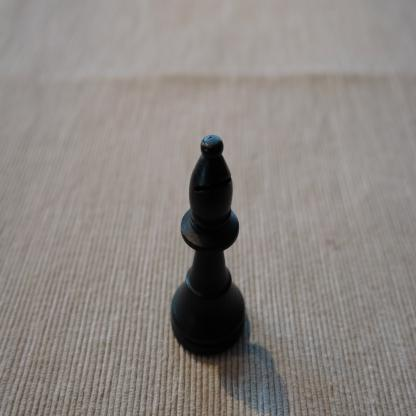black-bishop: (169, 134, 246, 358)
